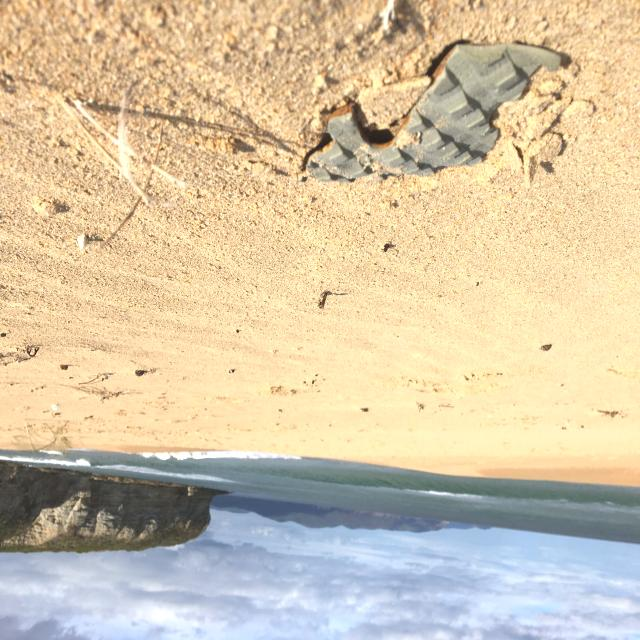Other plastic bottle: (292, 43, 562, 183)
